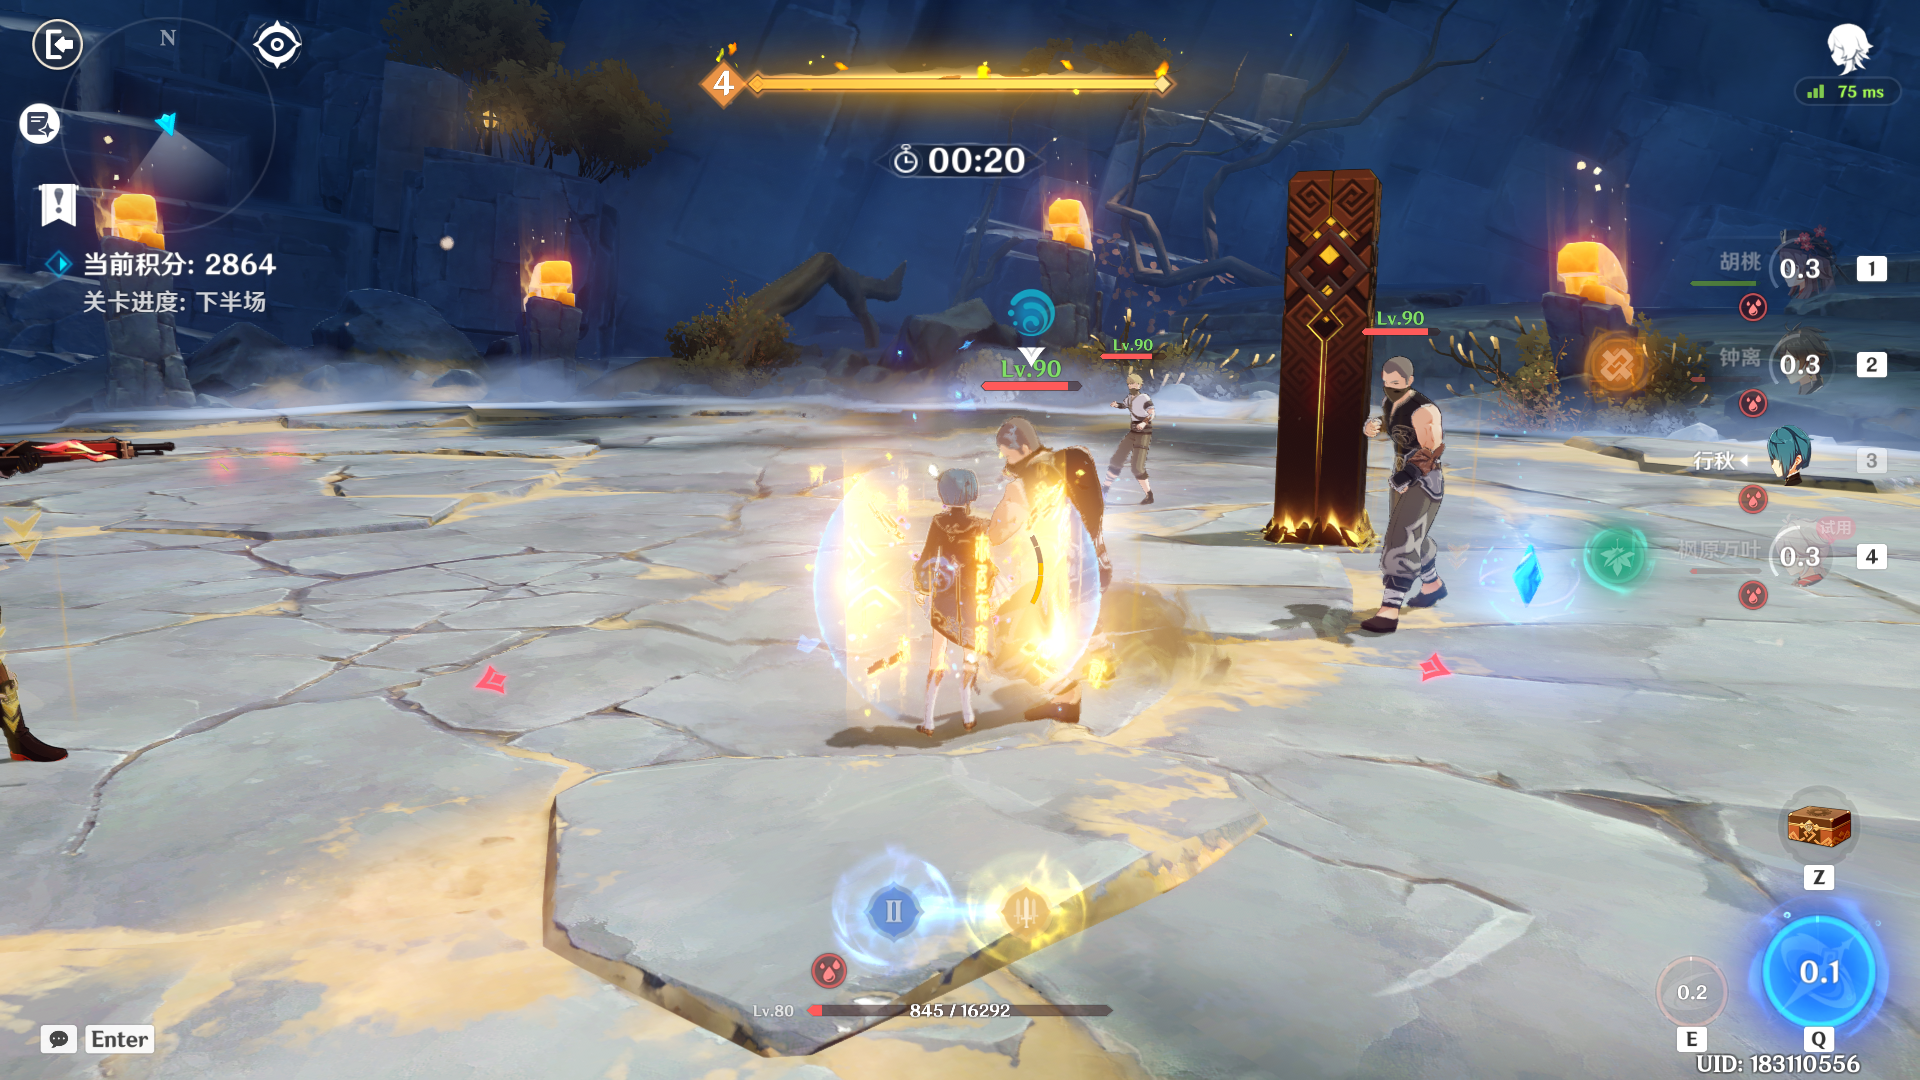character: (877, 436, 1022, 748)
robber: (963, 396, 1147, 727), (1336, 310, 1469, 682), (1088, 364, 1191, 513)
